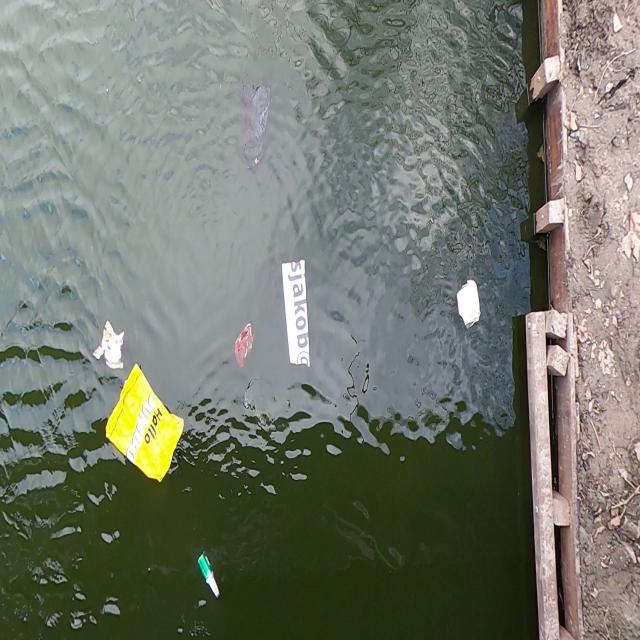Autre plastique: (453, 275, 484, 333), (95, 316, 126, 372)
Sac plastique: (103, 364, 188, 487), (234, 74, 274, 173), (241, 374, 293, 434), (233, 322, 258, 371)
